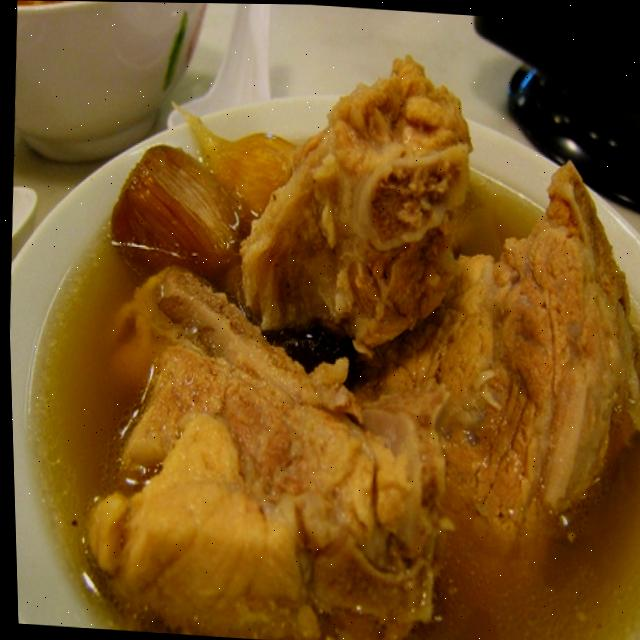汤锅炖物: (27, 45, 640, 640)
